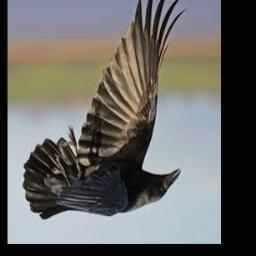Crow: (23, 0, 186, 219)
